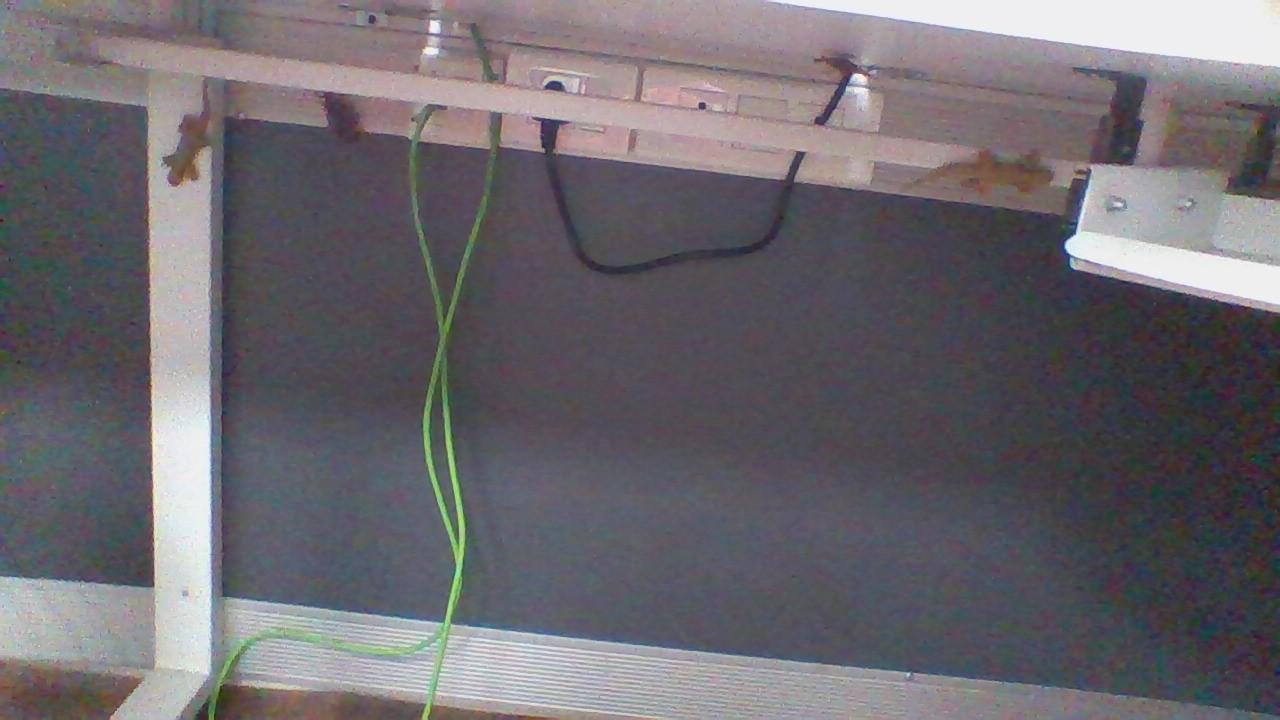cockroach: (312, 90, 366, 149), (815, 50, 883, 91)
lizard: (900, 152, 1057, 199), (163, 85, 221, 193)
